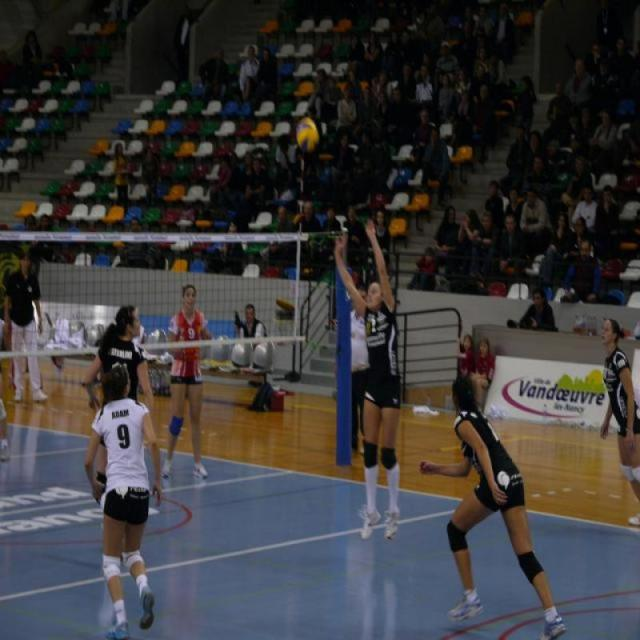volleyball: (296, 114, 320, 148)
